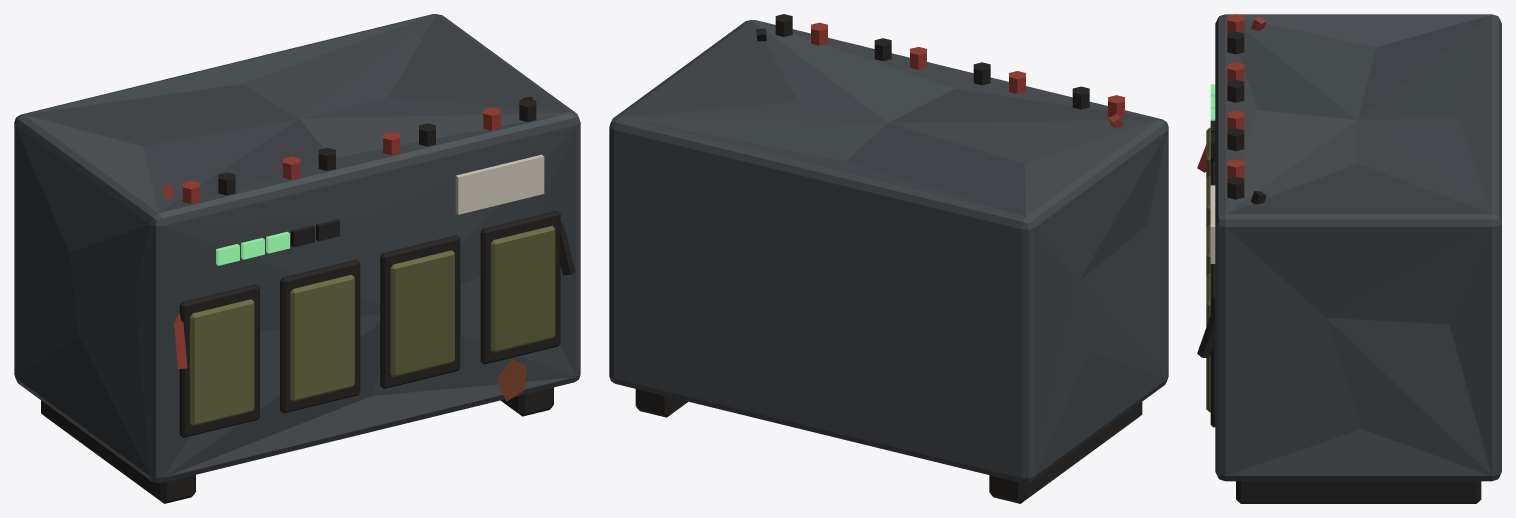
File: battery_bank_bunkernaya_batareya_idle.glb
The picture shows the model from 3 angles, left to right: view 1: azimuth 30°, elevation 25°; view 2: azimuth 150°, elevation 25°; view 3: azimuth 270°, elevation 25°; orthographic projection.
Parts seen in each view (by area): view 1: battery_bank_bunkernaya_batareya_idle; view 2: battery_bank_bunkernaya_batareya_idle; view 3: battery_bank_bunkernaya_batareya_idle.
Boxes of the visible parts, left/top/right/bottom form: battery_bank_bunkernaya_batareya_idle: left=14, top=14, right=580, bottom=503; battery_bank_bunkernaya_batareya_idle: left=609, top=14, right=1168, bottom=503; battery_bank_bunkernaya_batareya_idle: left=1197, top=14, right=1501, bottom=503.
Size of the model in its own units: 0.6 by 0.42 by 0.3724.
Materials: 2 (2 with a texture image).
